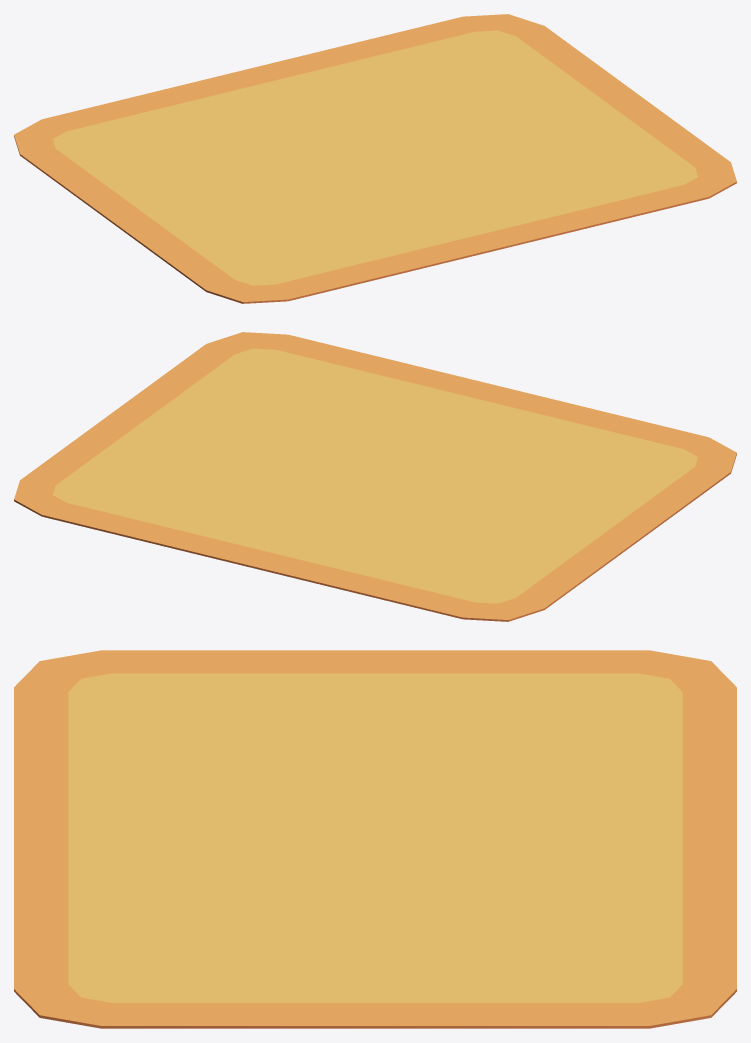
File: Desk_base_01.fbx
3 renders of one model, top to bottom at view 1: azimuth 30°, elevation 25°; view 2: azimuth 150°, elevation 25°; view 3: azimuth 270°, elevation 25°, orthographic. The views are drawn at different scales.
Parts seen in each view (by area): view 1: Desk_base_01; view 2: Desk_base_01; view 3: Desk_base_01.
Part boxes in pixels (x1,y1,x2,y2): Desk_base_01: [14, 14, 736, 303]; Desk_base_01: [14, 332, 736, 621]; Desk_base_01: [14, 650, 736, 1028].
Size of the model in its own units: 4.42 by 0.0146 by 3.59.
